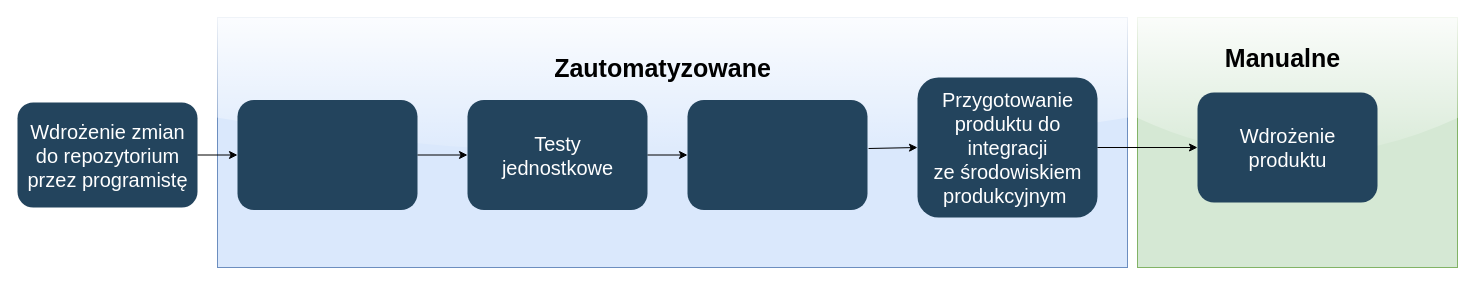
The diagram is 1475 pixels wide and 285 high, and some of its shapes have lost their labels. The centre of each missing label's shape, as x and y in pixels:
"Budowanie projektu" goes at point 327,155.
"Testy integracyjne i akceptacyjne" goes at point 777,155.
